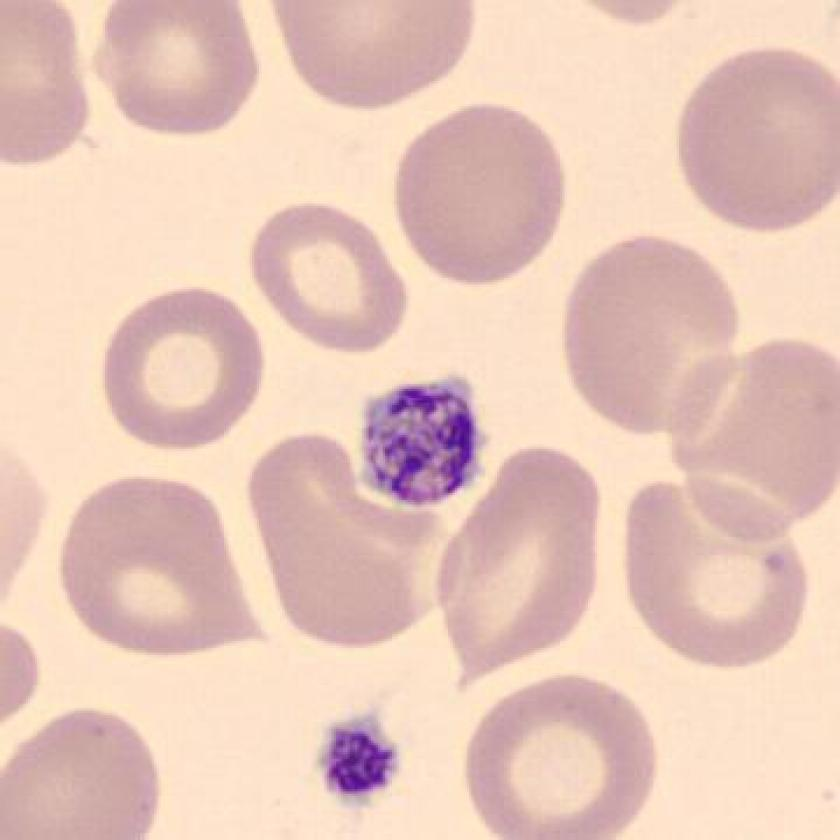platelets: (337, 362, 500, 515), (302, 702, 416, 811)
